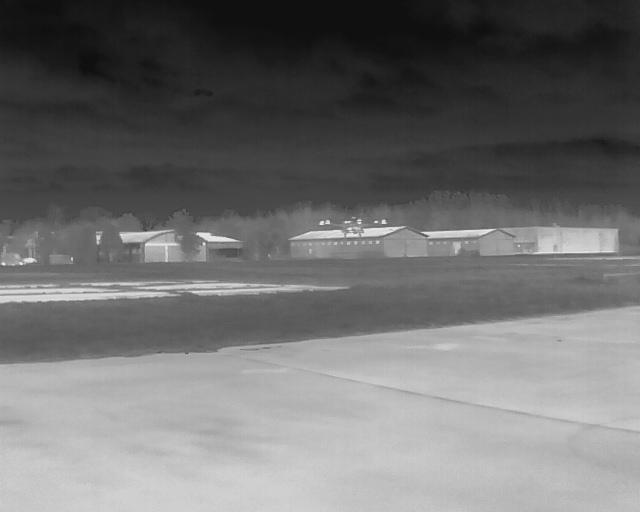drone: (312, 204, 395, 262)
